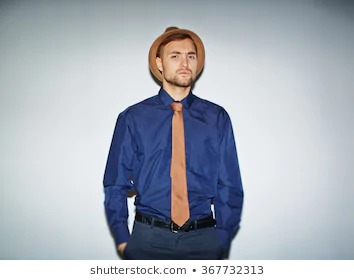F_belt: (138, 210, 217, 229)
F_shirt: (103, 90, 246, 253)
F_tie: (168, 100, 189, 228)
